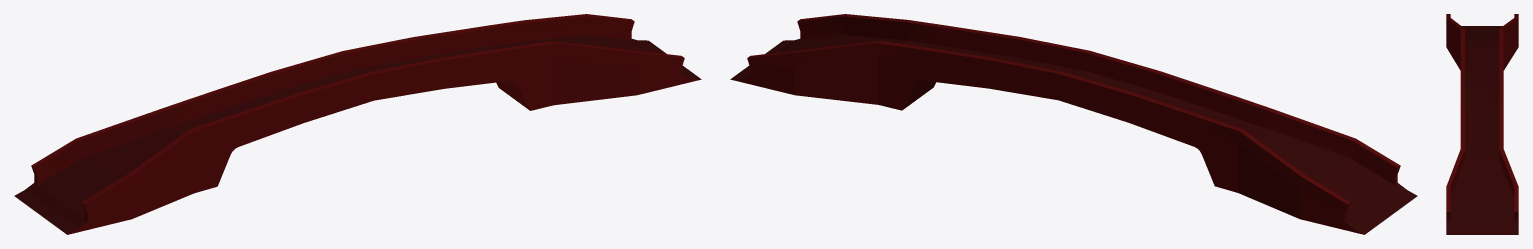
File: Bridge.fbx
3 views of the same model, side by side, from view 1: azimuth 30°, elevation 25°; view 2: azimuth 150°, elevation 25°; view 3: azimuth 270°, elevation 25° (orthographic). The views are drawn at different scales.
Visible parts, largest first — view 1: Bridge; view 2: Bridge; view 3: Bridge.
Part boxes in pixels (x1,y1,x2,y2): Bridge: (14, 14, 701, 234); Bridge: (730, 14, 1417, 234); Bridge: (1446, 14, 1518, 234).
Size of the model in its own units: 4461 by 508 by 649.
